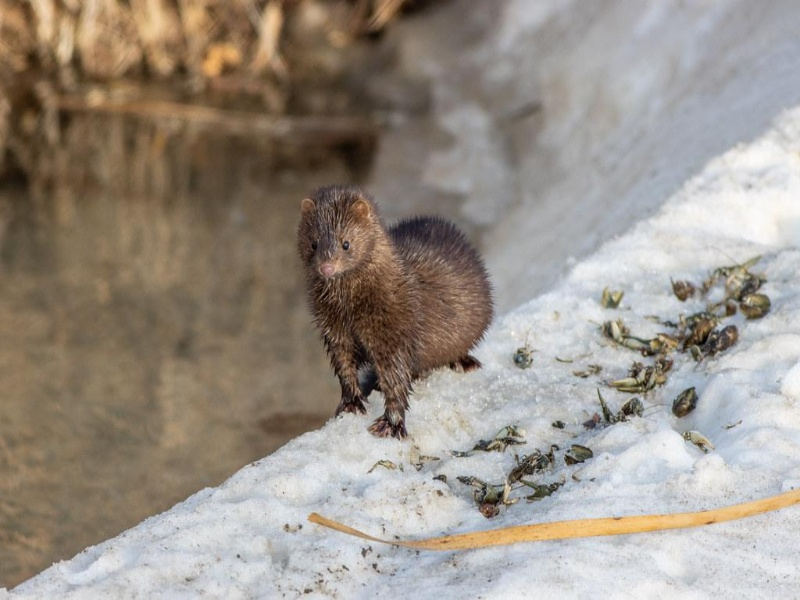minkish: (297, 182, 493, 442)
